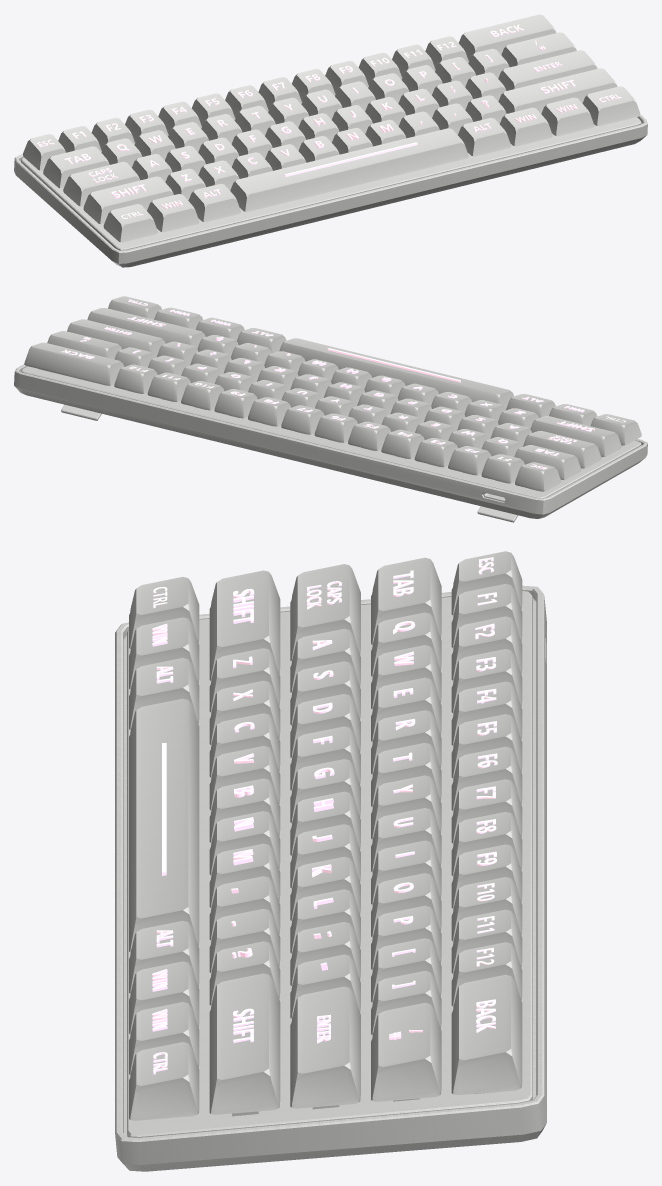
File: keyboard.glb
The picture shows the model from 3 angles, top to bottom: view 1: azimuth 30°, elevation 25°; view 2: azimuth 150°, elevation 25°; view 3: azimuth 270°, elevation 25°; orthographic projection. The views are drawn at different scales.
Visible parts, largest first — view 1: Box152, Text007, Box192; view 2: Box152, Text007, Box192; view 3: Box152, Text007.
Boxes of the visible parts, box(x1,y1,x2,y2) form: Box152: box(14, 14, 647, 267); Text007: box(37, 24, 621, 218); Box192: box(284, 142, 417, 177); Box152: box(14, 296, 647, 522); Text007: box(60, 299, 625, 469); Box192: box(327, 348, 460, 382); Box152: box(115, 551, 546, 1171); Text007: box(152, 557, 497, 1074).
Size of the model in its own units: 0.3524 by 0.037 by 0.1234.
2 materials, 2 textured.
